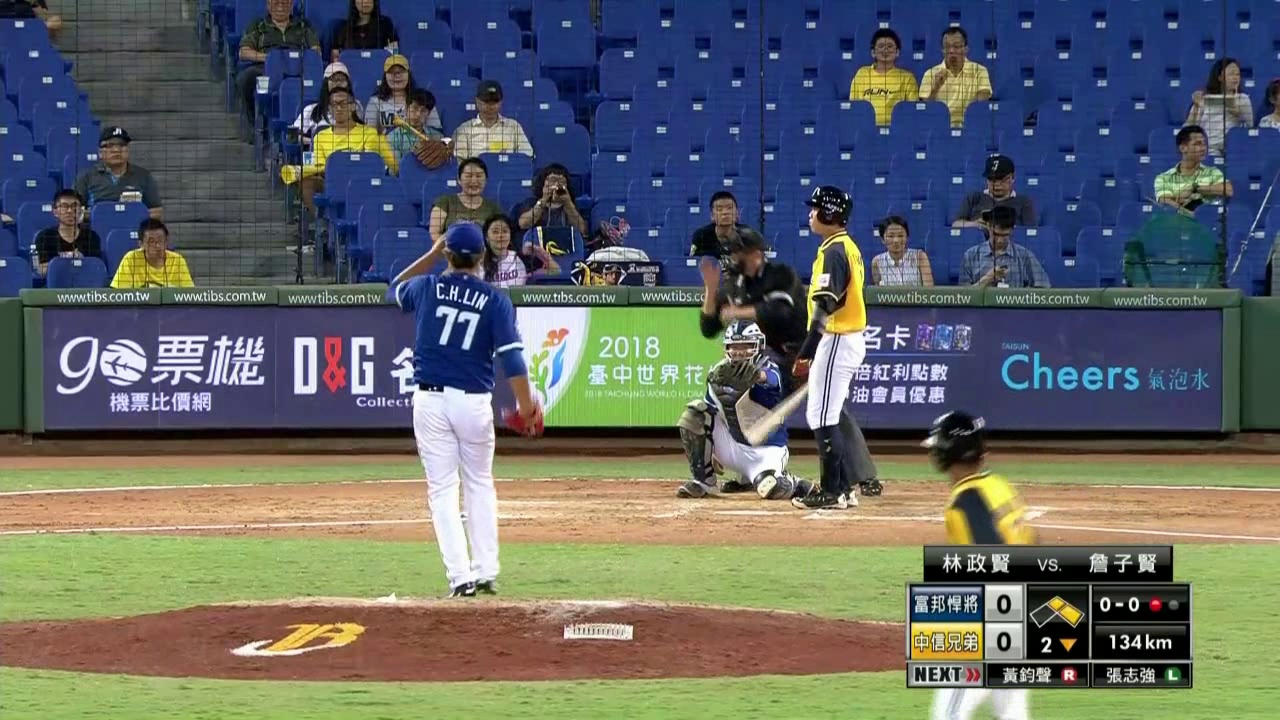base: (1028, 592, 1087, 629)
bat: (744, 378, 815, 447)
out: (1145, 586, 1184, 620)
score1: (987, 587, 1023, 620)
score2: (986, 626, 1019, 656)
session: (1028, 630, 1084, 659)
speed: (1095, 627, 1185, 656)
strikeball: (1094, 588, 1144, 622)
